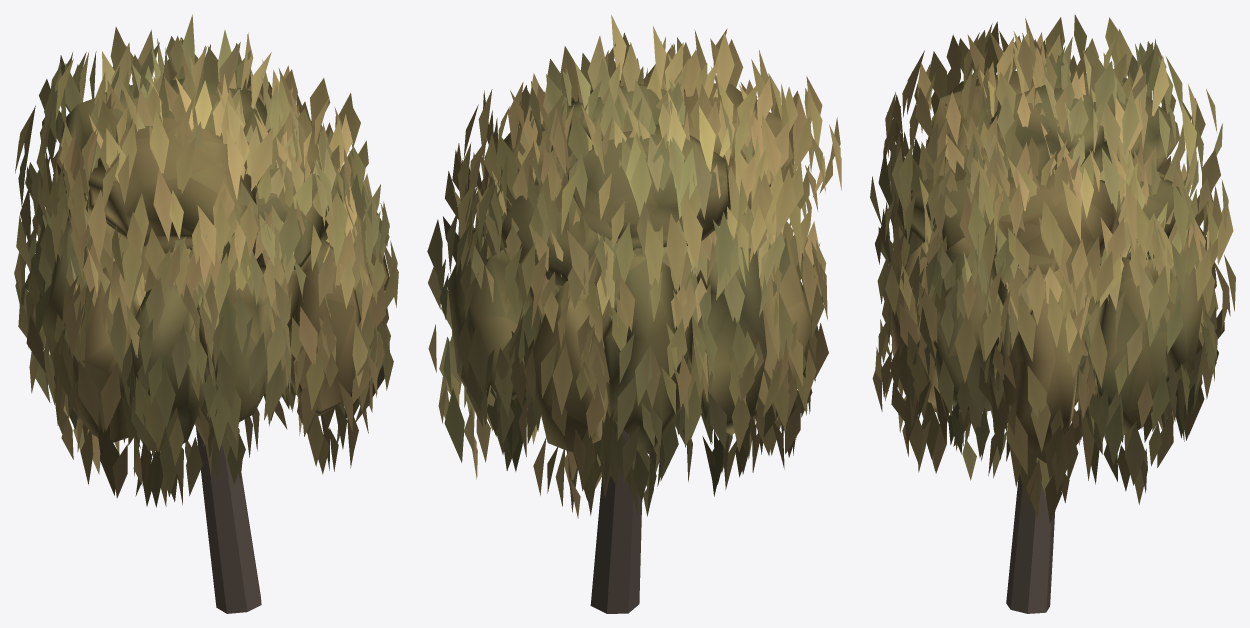
File: sauce_b.glb
3 renders of one model, left to right at view 1: azimuth 30°, elevation 25°; view 2: azimuth 150°, elevation 25°; view 3: azimuth 270°, elevation 25°, orthographic. The views are drawn at different scales.
Parts seen in each view (by area): view 1: SauceBHojas, SauceBCopa, SauceBTronco; view 2: SauceBHojas, SauceBCopa, SauceBTronco; view 3: SauceBHojas, SauceBCopa, SauceBTronco.
Boxes of the visible parts, x1,y1,x2,y2 form: SauceBHojas: (14, 14, 398, 507); SauceBCopa: (38, 77, 373, 450); SauceBTronco: (196, 427, 261, 613); SauceBHojas: (427, 15, 841, 518); SauceBCopa: (448, 80, 811, 454); SauceBTronco: (590, 430, 642, 613); SauceBHojas: (870, 15, 1235, 522); SauceBCopa: (891, 71, 1212, 463); SauceBTronco: (1006, 473, 1055, 613).
Size of what is drawn, in the model's own units: 5.2 by 8.29 by 4.95.
